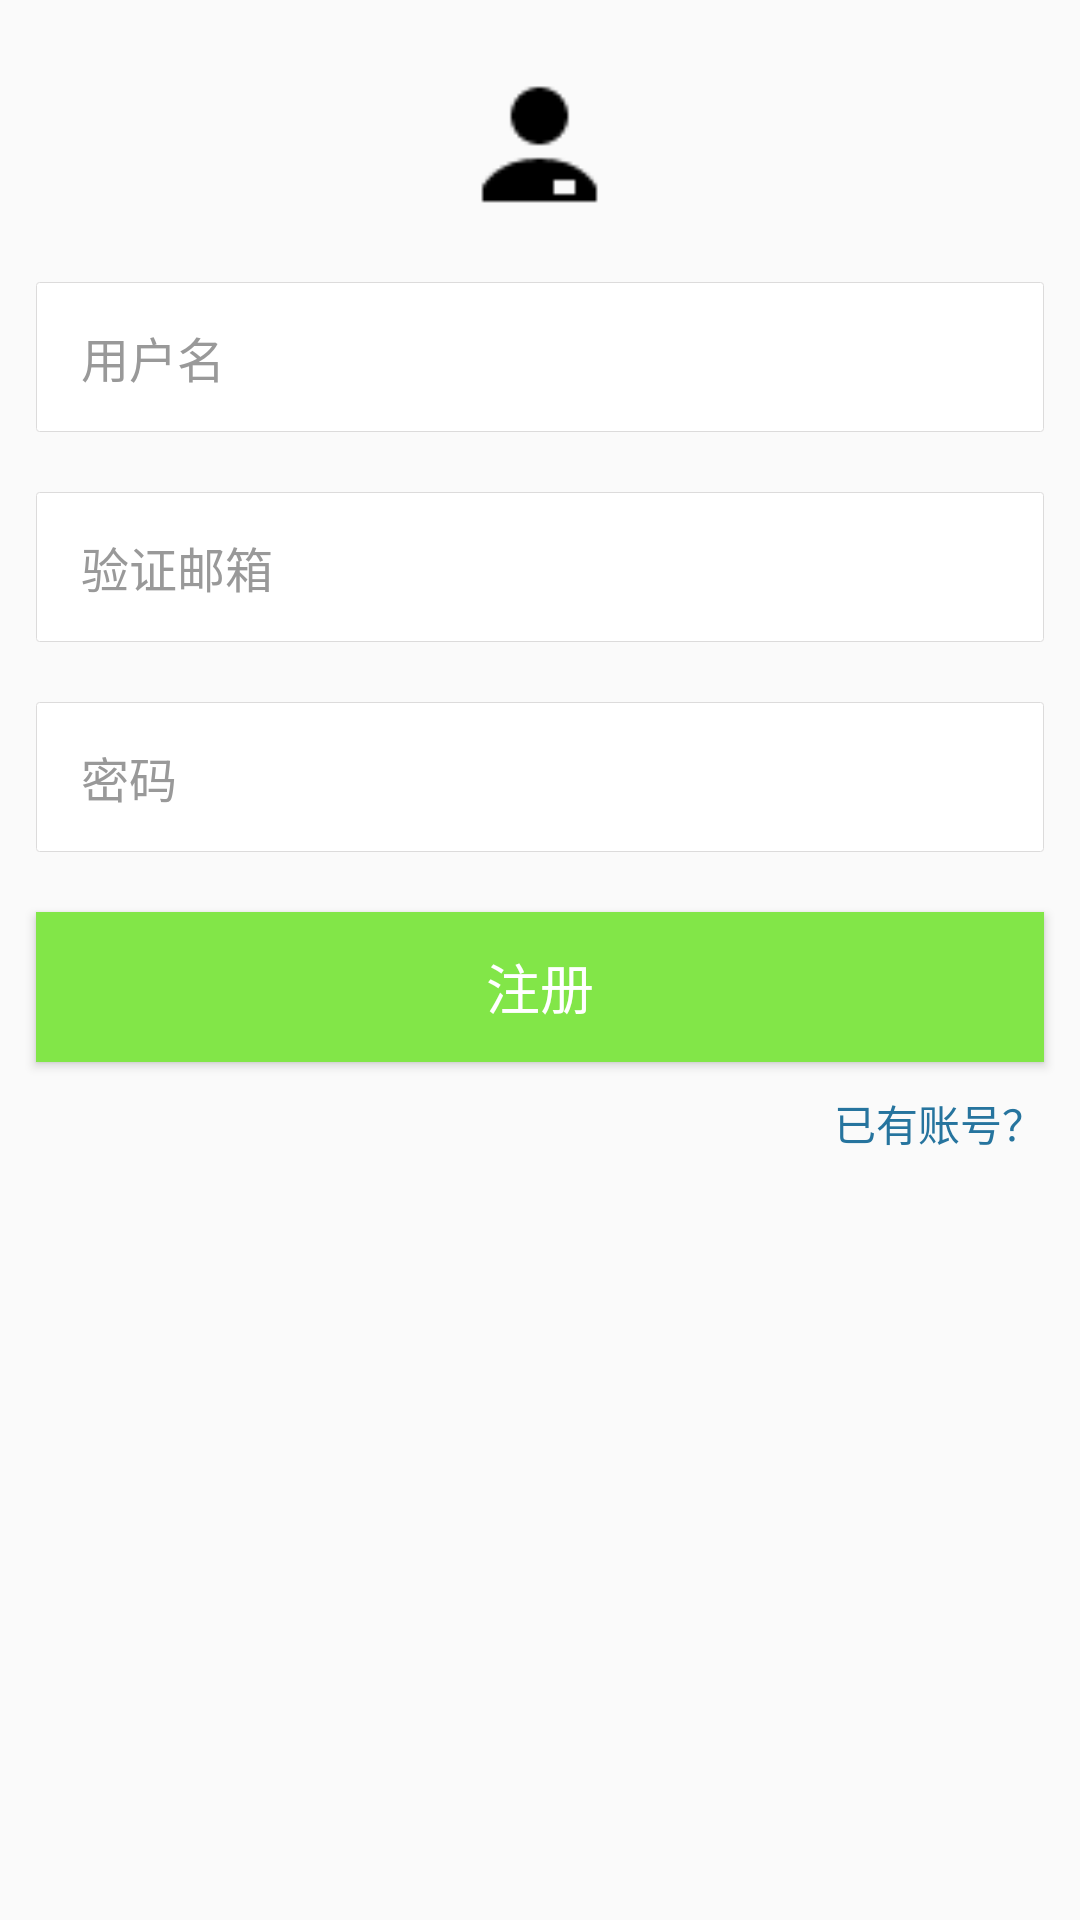

Locate icon controls on the screen. Image size 1080 x 1920, boxes as box(x1, y1, x2, y2).
user: box(481, 86, 598, 203)
